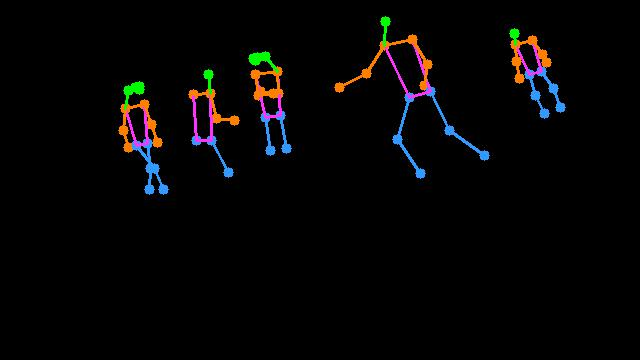normal: (322, 9, 499, 190), (100, 68, 187, 217), (487, 19, 589, 130), (176, 61, 244, 185), (241, 38, 302, 163)
